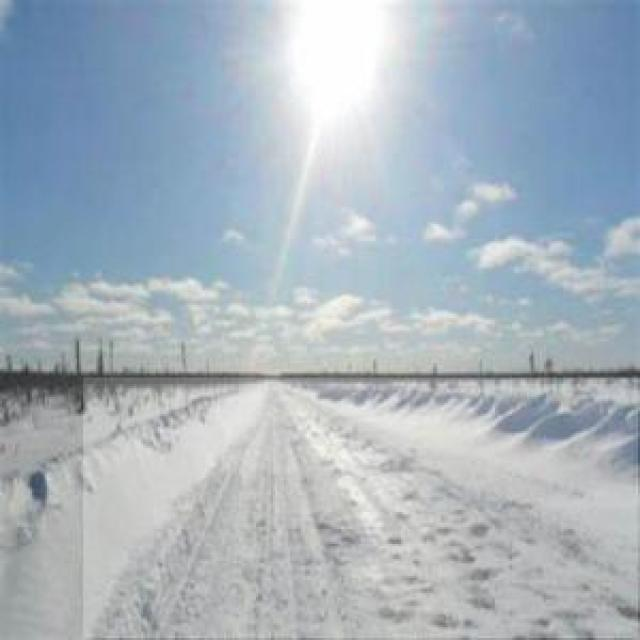ice-road: (84, 379, 640, 640)
